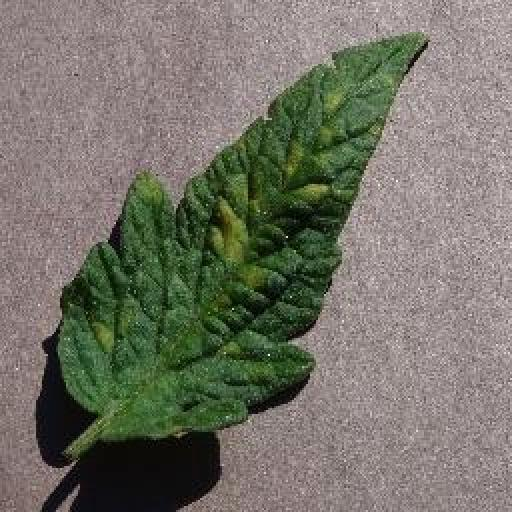disease_tomato: (56, 32, 426, 442)
